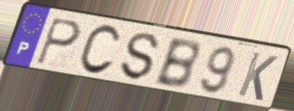9: (198, 45, 239, 96)
B: (152, 37, 201, 91)
C: (75, 24, 123, 78)
K: (235, 50, 280, 104)
P: (34, 15, 83, 67)
S: (119, 31, 161, 83)
